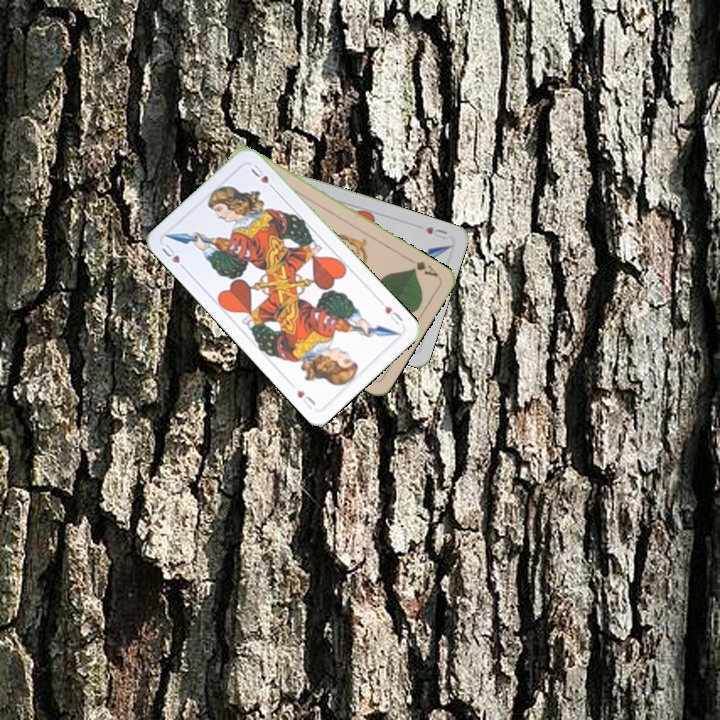GA: (404, 254, 441, 279)
HU: (157, 240, 190, 274), (380, 301, 406, 328), (421, 223, 450, 242)
